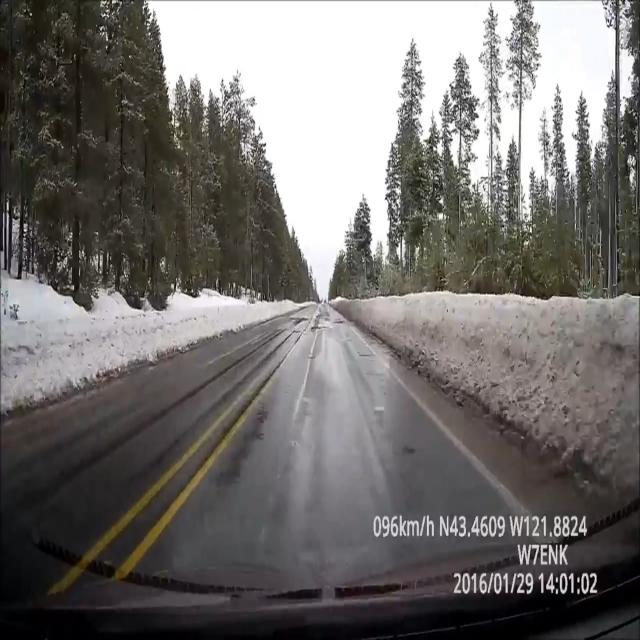Pothole: (310, 316, 326, 334)
